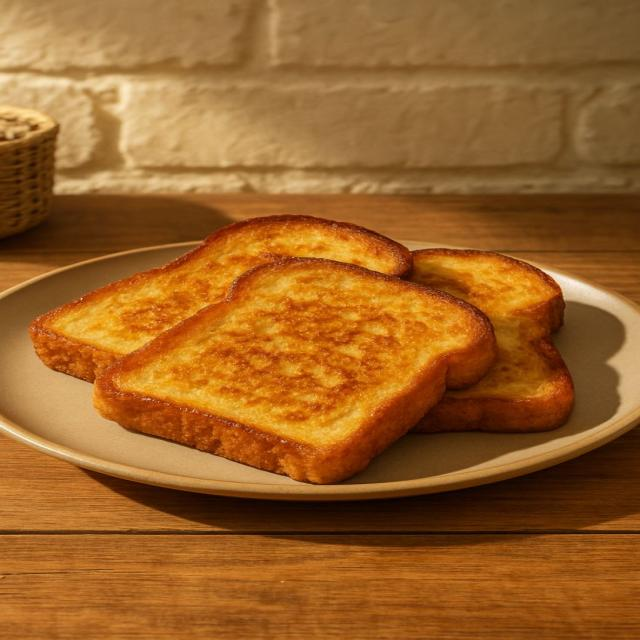toast bread: (94, 258, 497, 483), (30, 216, 411, 381), (412, 249, 574, 432)
